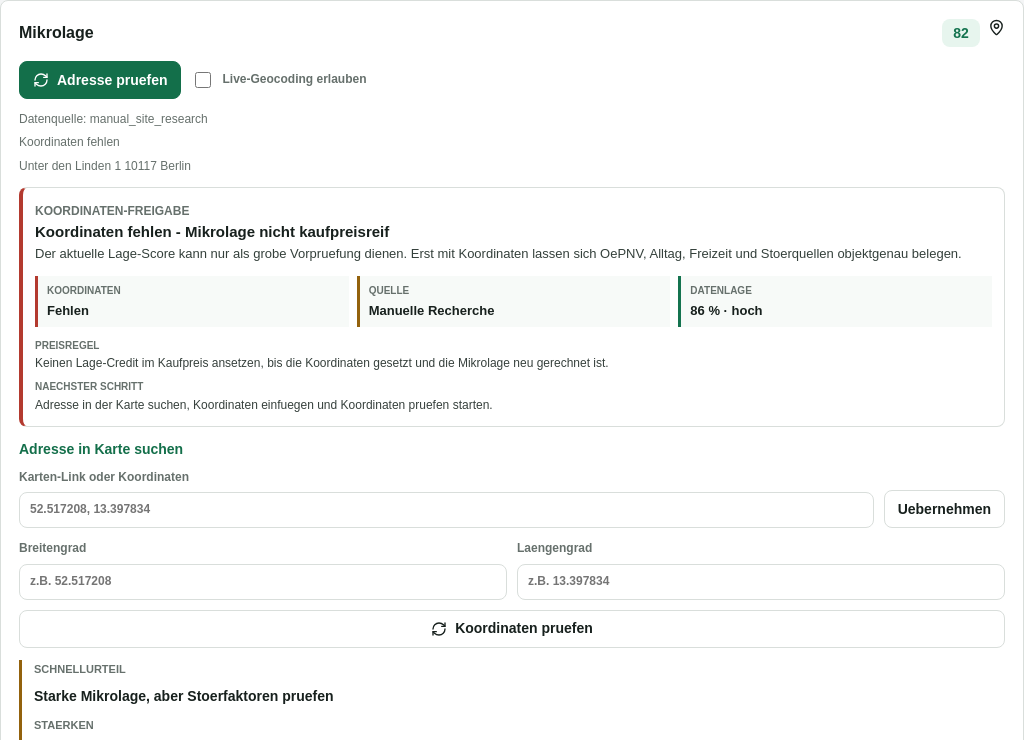
DealMicroLocationPanel › lets the user explicitly allow live geocoding and shows API guidance on failure
Expected: the heading "Koordinaten fehlen - Mikrolage nicht kaufpreisreif" is shown, [35, 223, 389, 240]
Expected: the text "Keinen Lage-Credit" is shown, [35, 356, 609, 370]
Click the checkbox labelled "Live-Geocoding erlauben" at (204, 80), box [196, 72, 212, 88]
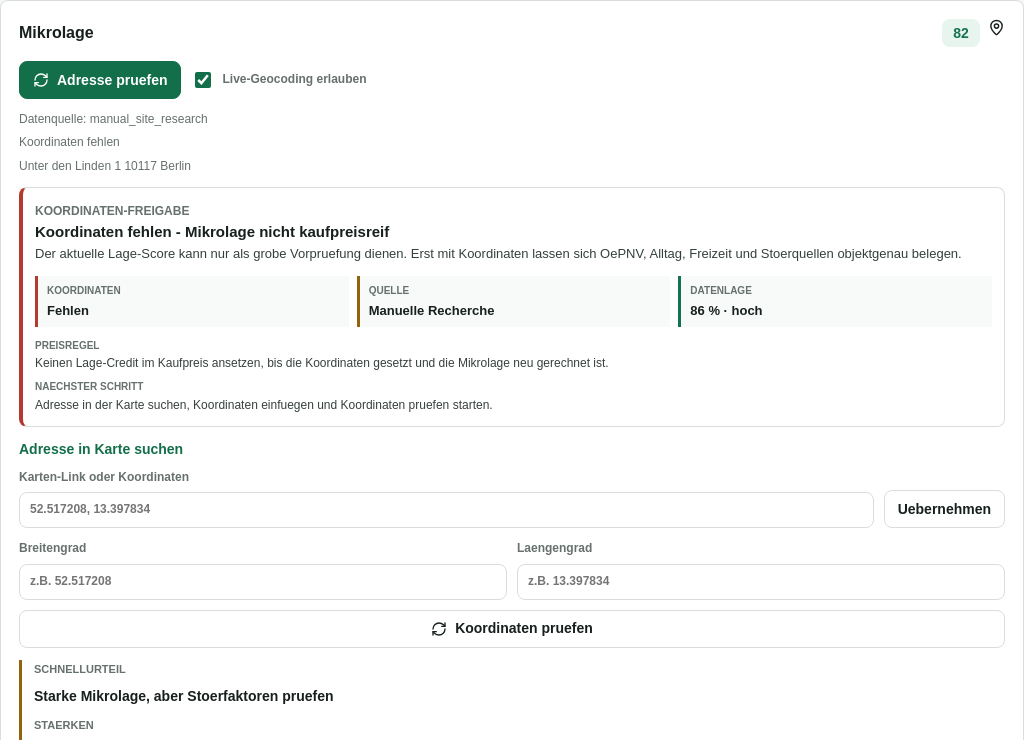
Click the button "Adresse pruefen" at (100, 80), box [19, 61, 182, 99]
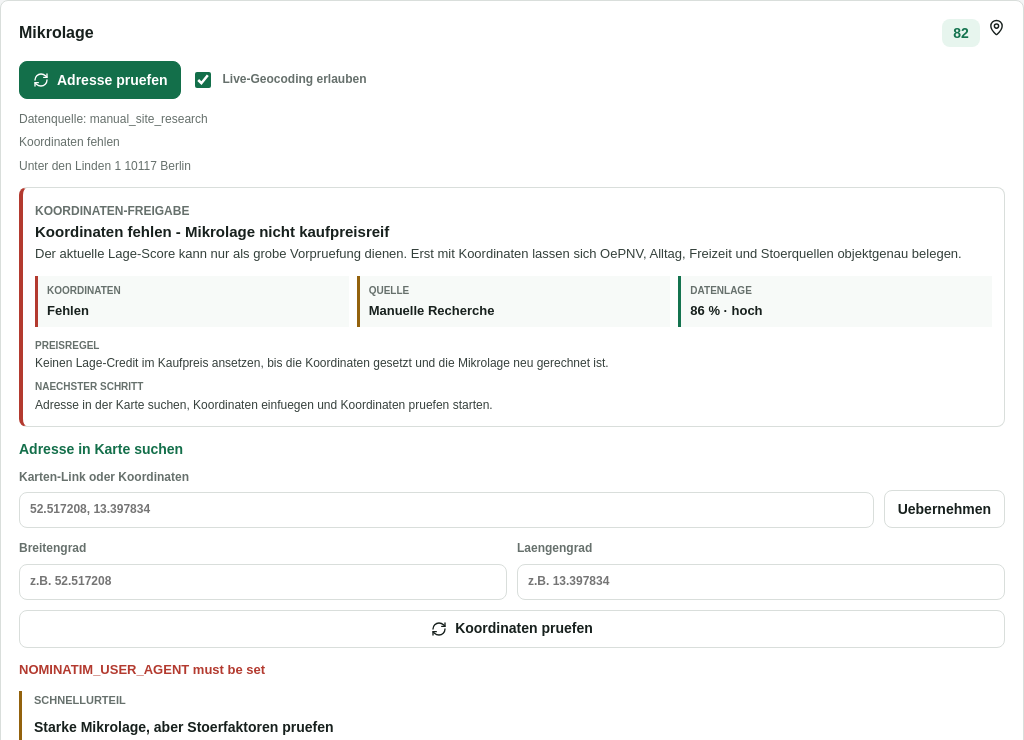
Result: the text "NOMINATIM_USER_AGENT must be set" is shown at [19, 662, 265, 677]
